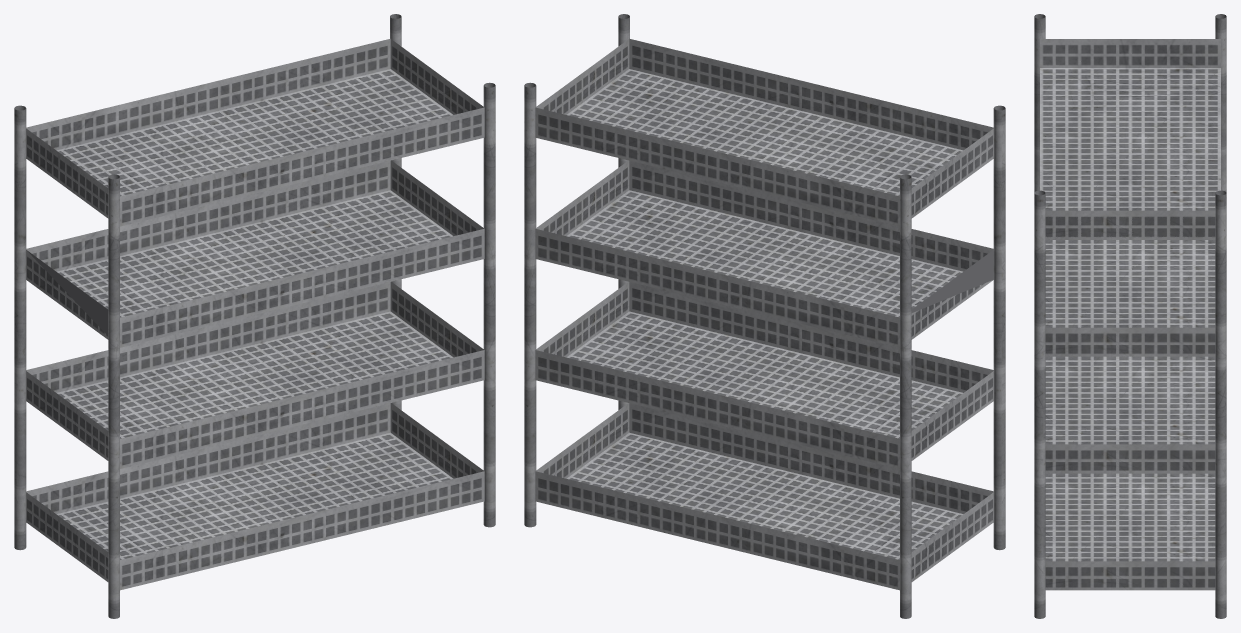
The model's file is Rack.fbx.
3 renders of one model, left to right at view 1: azimuth 30°, elevation 25°; view 2: azimuth 150°, elevation 25°; view 3: azimuth 270°, elevation 25°, orthographic. The views are drawn at different scales.
Parts seen in each view (by area): view 1: Material2.001; view 2: Material2.001; view 3: Material2.001.
Part boxes in pixels (bbox=[...]): Material2.001: bbox=[14, 14, 495, 618]; Material2.001: bbox=[524, 14, 1005, 618]; Material2.001: bbox=[1034, 14, 1226, 618].
Size of the model in its own units: 67.55 by 73.56 by 30.29.
